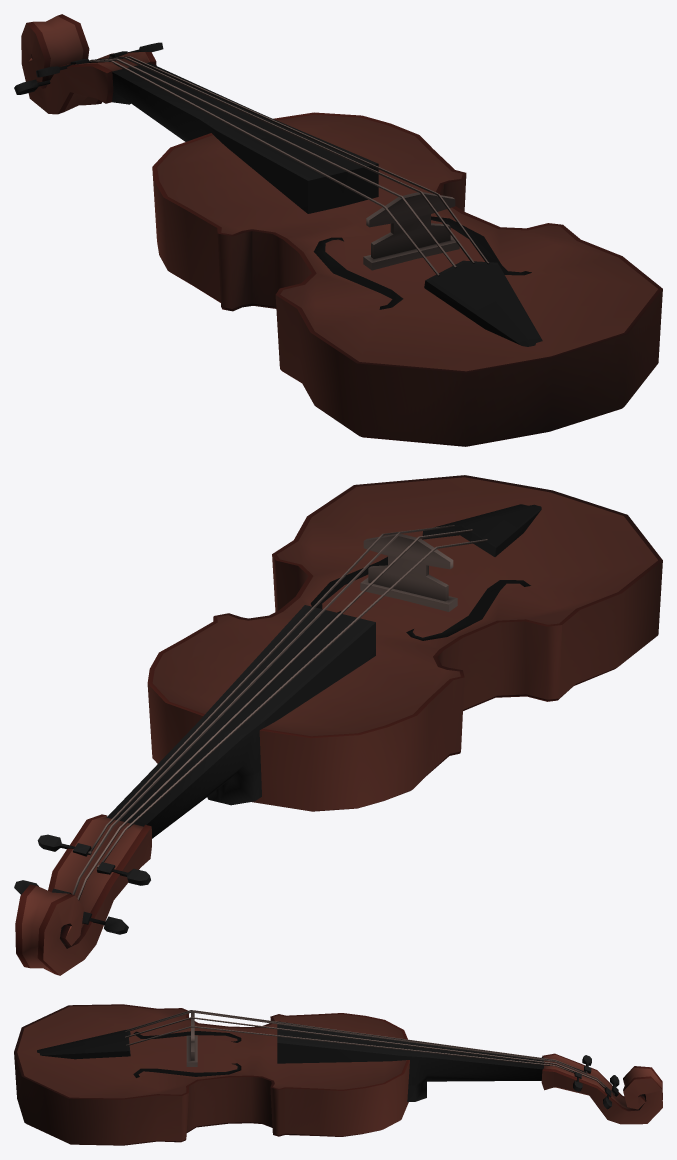
3 views of the same model, one above another, from view 1: azimuth 30°, elevation 25°; view 2: azimuth 150°, elevation 25°; view 3: azimuth 270°, elevation 25° (orthographic). The views are drawn at different scales.
Parts seen in each view (by area): view 1: alt1.177; view 2: alt1.177; view 3: alt1.177.
Part boxes in pixels (bbox=[...]): alt1.177: bbox=[14, 14, 662, 446]; alt1.177: bbox=[14, 475, 662, 975]; alt1.177: bbox=[14, 1004, 662, 1145].
Bounding box in the file's own units: 0.1739 × 0.0888 × 0.5.
